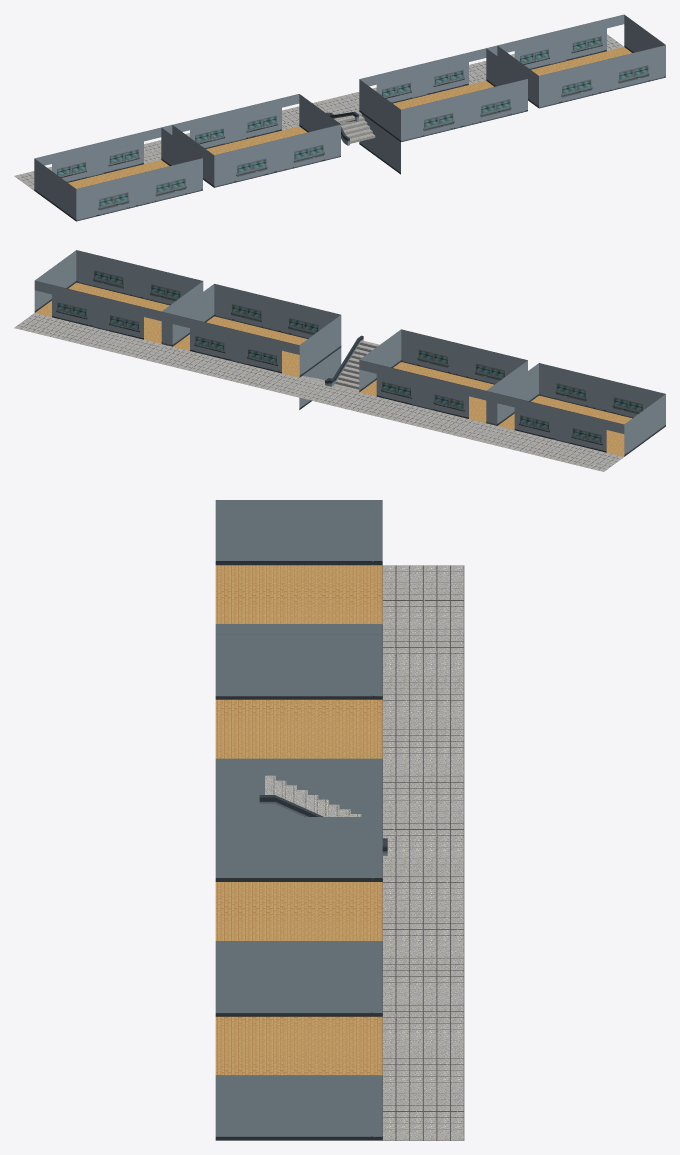
Rendered from 3ST_School (1).fbx.
The picture shows the model from 3 angles, top to bottom: view 1: azimuth 30°, elevation 25°; view 2: azimuth 150°, elevation 25°; view 3: azimuth 270°, elevation 25°; orthographic projection. The views are drawn at different scales.
Parts seen in each view (by area): view 1: School_WallV4__1_.001, School_WallV4__1_.004, School_WallV4__1_, School_WallV4__1_.003, School_Window__2_.001, School_Window__2_.003, School_Window__2_.005, School_Window__2_.007, School_Corridor_1, School_WallV2_1.005, School_WallV2_1.010, School_WallV2_1.008 (+15 smaller); view 2: School_Corridor_1, School_WallV4__1_, School_WallV4__1_.001, School_WallV4__1_.003, School_WallV4__1_.004, School_Window__2_.007, School_Window__2_.005, School_Window__2_.001, School_Window__2_.003, School_Floor_3.004, School_WallV2_1.010, School_Floor_3.001 (+14 smaller); view 3: School_Corridor_1, School_WallV2_1, School_WallV2_1.001, School_WallV2_1.005, School_WallV2_1.012, School_WallV2_1.010, School_Floor_3.003, School_Floor_3, School_Floor_3.001, School_Floor_3.004, School_WallV2_1.011, School_WallV2_1.004 (+3 smaller).
Part boxes in pixels (x1,y1,x2,y2): School_WallV4__1_.001: [401, 79, 527, 141]; School_WallV4__1_.004: [76, 158, 202, 221]; School_WallV4__1_: [539, 45, 665, 108]; School_WallV4__1_.003: [214, 124, 340, 187]; School_Window__2_.001: [359, 48, 486, 103]; School_Window__2_.003: [497, 14, 624, 69]; School_Window__2_.005: [173, 94, 299, 148]; School_Window__2_.007: [35, 127, 161, 182]; School_Corridor_1: [14, 34, 623, 190]; School_WallV2_1.005: [34, 158, 76, 221]; School_WallV2_1.010: [359, 79, 400, 141]; School_WallV2_1.008: [359, 114, 400, 174]; School_Corridor_1: [14, 313, 623, 471]; School_WallV4__1_: [76, 250, 202, 305]; School_WallV4__1_.001: [214, 284, 340, 338]; School_WallV4__1_.003: [401, 329, 527, 384]; School_WallV4__1_.004: [539, 363, 665, 418]; School_Window__2_.007: [497, 393, 624, 452]; School_Window__2_.005: [359, 360, 486, 418]; School_Window__2_.001: [172, 314, 299, 373]; School_Window__2_.003: [34, 280, 161, 339]; School_Floor_3.004: [498, 395, 631, 456]; School_WallV2_1.010: [299, 315, 341, 377]; School_Floor_3.001: [173, 316, 307, 377]; School_Corridor_1: [382, 565, 464, 1140]; School_WallV2_1: [215, 1075, 382, 1140]; School_WallV2_1.001: [215, 951, 382, 1016]; School_WallV2_1.005: [215, 500, 382, 565]; School_WallV2_1.012: [215, 634, 382, 699]; School_WallV2_1.010: [215, 817, 382, 881]; School_Floor_3.003: [215, 699, 382, 758]; School_Floor_3: [215, 1016, 382, 1075]; School_Floor_3.001: [215, 882, 382, 940]; School_Floor_3.004: [215, 565, 382, 623]; School_WallV2_1.011: [215, 758, 382, 816]; School_WallV2_1.004: [215, 624, 382, 634].
Size of the model in its own units: 9765 by 1030 by 1783.
